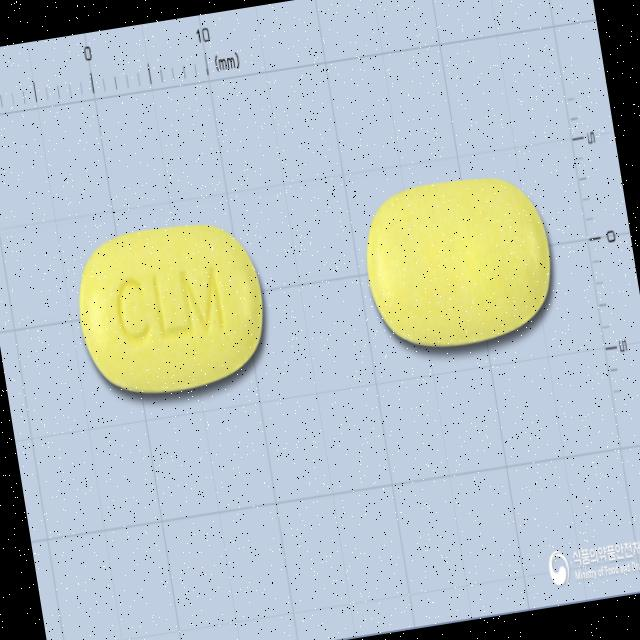Larith: (68, 212, 275, 405)
